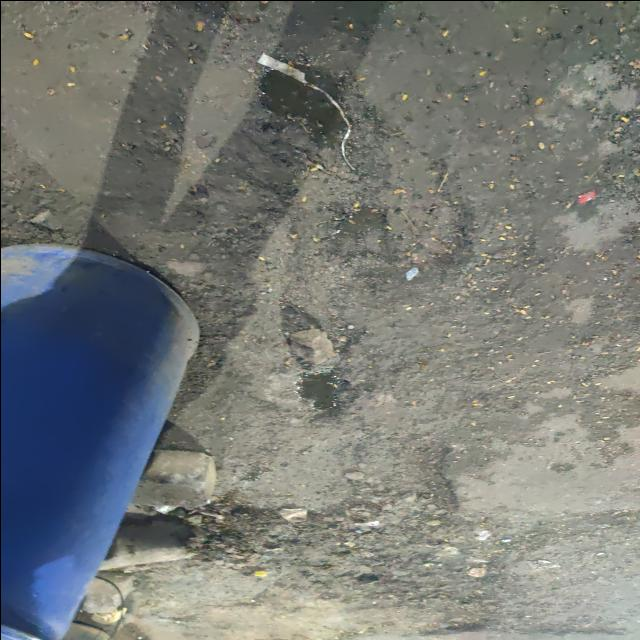potholes: (184, 456, 640, 636)
